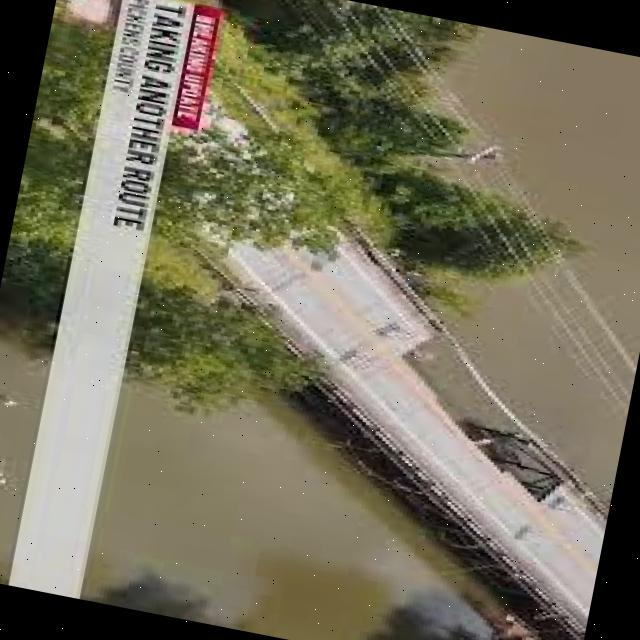bridge collapse: (332, 242, 640, 570)
